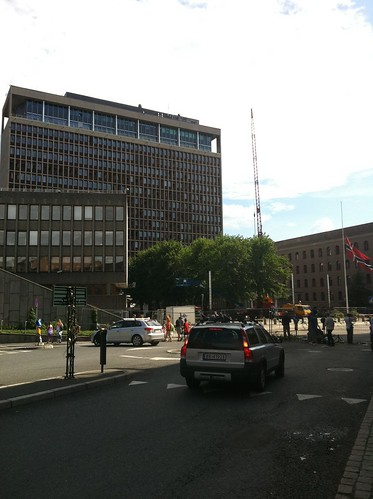building: (1, 101, 240, 267), (1, 189, 139, 332), (275, 223, 373, 310)
car: (172, 319, 283, 394), (88, 313, 164, 348)
sky: (1, 1, 367, 216)
street: (1, 321, 356, 499)
tree: (147, 236, 284, 309)
